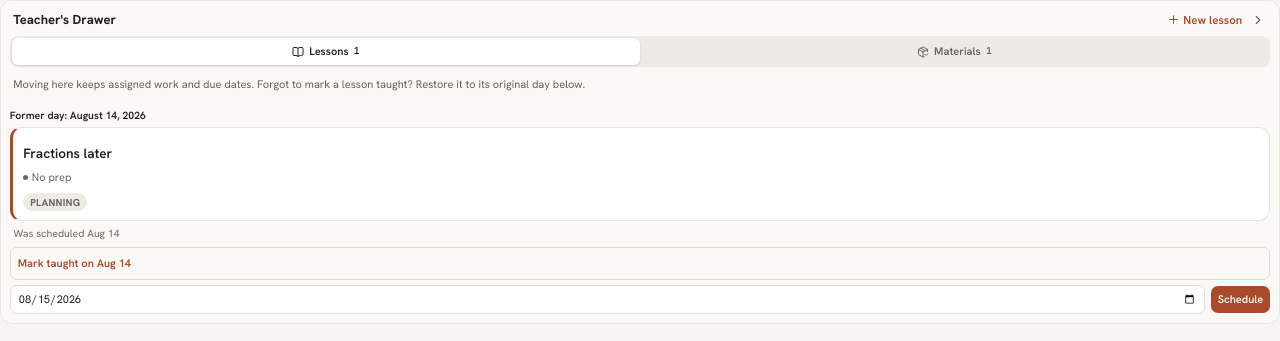
it: LessonDrawer › summarizes material state for only the lessons in view
Click the tab "Materials 1". click: [954, 52]
box: 640,38 -> 1268,65
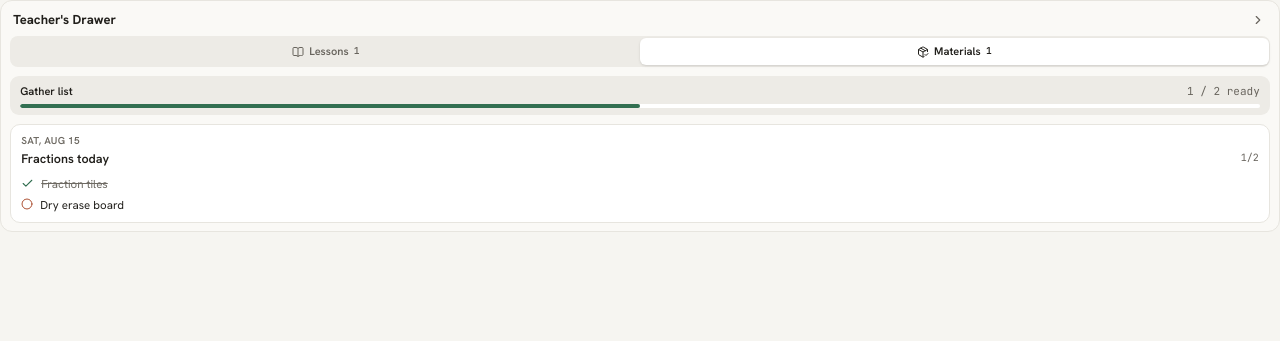
Check: the text "Fractions today" is shown, box 21,150 -> 109,167
Check: the text "Fraction tiles" is shown, box 41,176 -> 108,192
Check: the text "Dry erase board" is shown, box 40,197 -> 124,213
